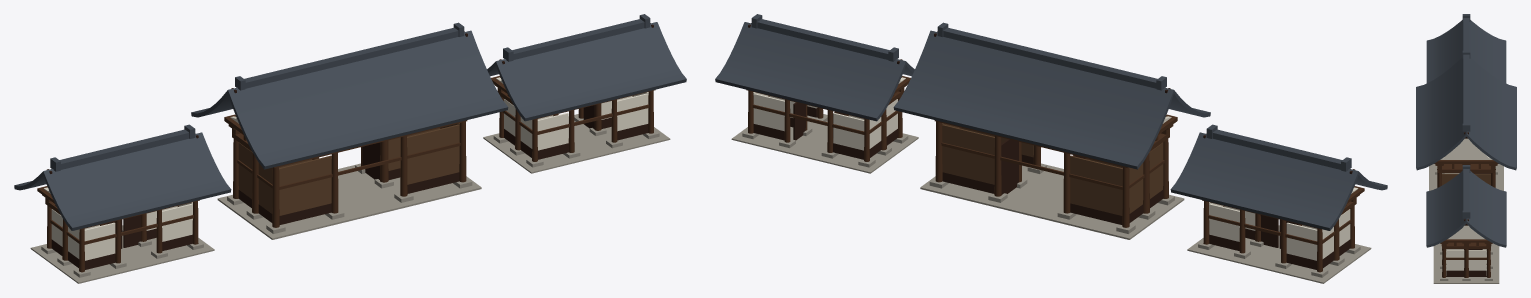
Rendered from toji-gates.glb.
3 renders of one model, left to right at view 1: azimuth 30°, elevation 25°; view 2: azimuth 150°, elevation 25°; view 3: azimuth 270°, elevation 25°, orthographic. The views are drawn at different scales.
Visible parts, largest first — view 1: NandaiMon_Roof, KeigaMon_Roof, TodaiMon_Roof, NandaiMon_Wall, NandaiMon_Stone, NandaiMon_Wood, KeigaMon_Stone, TodaiMon_Stone, TodaiMon_Plaster, KeigaMon_Plaster, KeigaMon_Wood, TodaiMon_Wood (+3 smaller); view 2: NandaiMon_Roof, KeigaMon_Roof, TodaiMon_Roof, NandaiMon_Wall, NandaiMon_Stone, NandaiMon_Wood, KeigaMon_Stone, TodaiMon_Stone, TodaiMon_Plaster, KeigaMon_Plaster, TodaiMon_Wood, KeigaMon_Wood (+3 smaller); view 3: NandaiMon_Roof, KeigaMon_Roof, TodaiMon_Roof, KeigaMon_Stone, KeigaMon_Plaster, KeigaMon_Wood, NandaiMon_Wood, NandaiMon_Plaster, NandaiMon_Stone, KeigaMon_WoodDark, NandaiMon_Wall.
Boxes of the visible parts, left/top/right/bottom form: NandaiMon_Roof: left=191, top=22, right=508, bottom=169; KeigaMon_Roof: left=487, top=14, right=686, bottom=121; TodaiMon_Roof: left=14, top=124, right=231, bottom=230; NandaiMon_Wall: left=238, top=123, right=459, bottom=215; NandaiMon_Stone: left=217, top=163, right=481, bottom=239; NandaiMon_Wood: left=224, top=114, right=467, bottom=227; KeigaMon_Stone: left=483, top=114, right=670, bottom=173; TodaiMon_Stone: left=30, top=225, right=214, bottom=283; TodaiMon_Plaster: left=43, top=187, right=192, bottom=260; KeigaMon_Plaster: left=496, top=77, right=648, bottom=150; KeigaMon_Wood: left=491, top=76, right=655, bottom=161; TodaiMon_Wood: left=37, top=186, right=199, bottom=272; NandaiMon_Roof: left=893, top=22, right=1210, bottom=169; KeigaMon_Roof: left=715, top=14, right=914, bottom=121; TodaiMon_Roof: left=1170, top=124, right=1387, bottom=230; NandaiMon_Wall: left=942, top=123, right=1163, bottom=215; NandaiMon_Stone: left=920, top=163, right=1184, bottom=239; NandaiMon_Wood: left=934, top=114, right=1177, bottom=227; KeigaMon_Stone: left=731, top=114, right=918, bottom=173; TodaiMon_Stone: left=1187, top=225, right=1371, bottom=283; TodaiMon_Plaster: left=1209, top=187, right=1358, bottom=260; KeigaMon_Plaster: left=753, top=77, right=905, bottom=150; TodaiMon_Wood: left=1202, top=186, right=1364, bottom=272; KeigaMon_Wood: left=746, top=76, right=910, bottom=161; NandaiMon_Roof: left=1416, top=50, right=1516, bottom=170; KeigaMon_Roof: left=1426, top=165, right=1506, bottom=247; TodaiMon_Roof: left=1426, top=14, right=1506, bottom=82; KeigaMon_Stone: left=1433, top=243, right=1499, bottom=283; KeigaMon_Plaster: left=1446, top=225, right=1486, bottom=270; KeigaMon_Wood: left=1440, top=239, right=1492, bottom=277; NandaiMon_Wood: left=1434, top=160, right=1498, bottom=187; NandaiMon_Plaster: left=1440, top=138, right=1492, bottom=159; NandaiMon_Stone: left=1429, top=164, right=1503, bottom=190; KeigaMon_WoodDark: left=1446, top=219, right=1486, bottom=276; NandaiMon_Wall: left=1442, top=173, right=1490, bottom=185.
Size of the model in its own units: 59.52 by 13.2 by 12.4.
